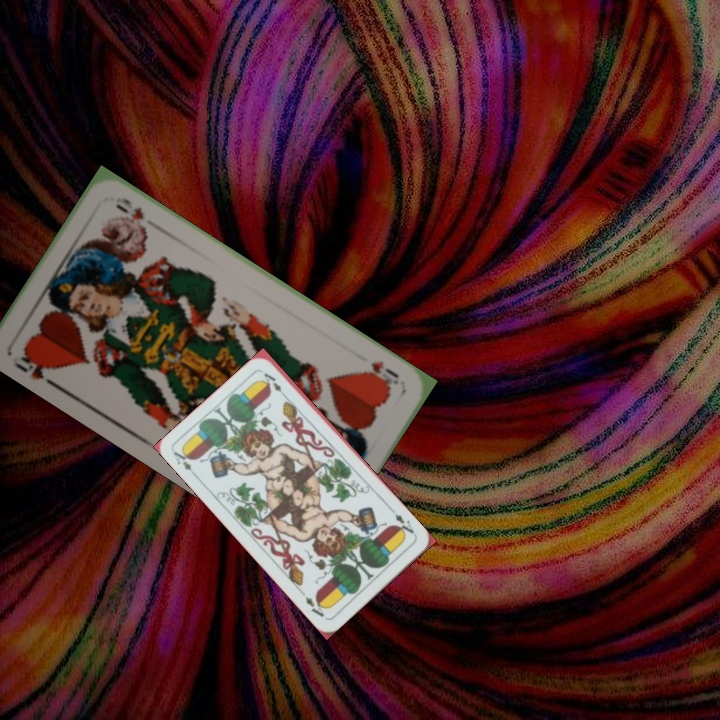EA: (169, 444, 201, 481), (391, 509, 419, 539)
HO: (8, 344, 58, 383), (360, 356, 402, 390)
